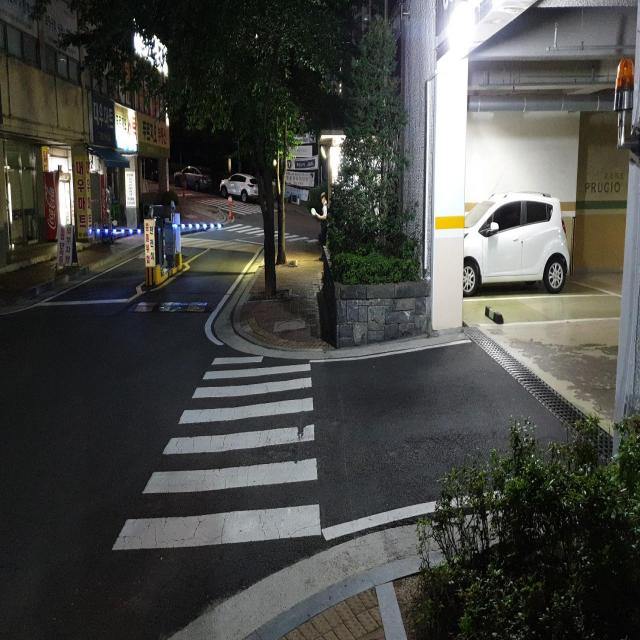횡단보도: (111, 354, 322, 554)
